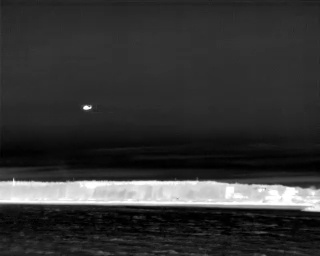HELICOPTER: (79, 100, 96, 116)
